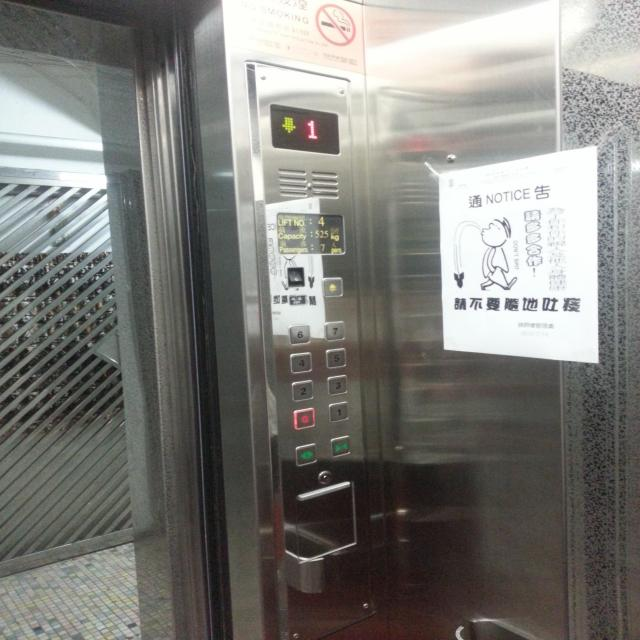1: (327, 399, 350, 424)
2: (290, 378, 314, 403)
3: (326, 373, 348, 397)
4: (288, 350, 313, 374)
5: (324, 346, 348, 370)
6: (287, 323, 311, 346)
7: (322, 319, 346, 342)
G: (292, 406, 316, 431)
alarm: (320, 276, 344, 298)
close: (329, 434, 351, 459)
keyhole: (316, 468, 334, 486)
led: (268, 100, 342, 157)
open: (294, 442, 318, 468)
